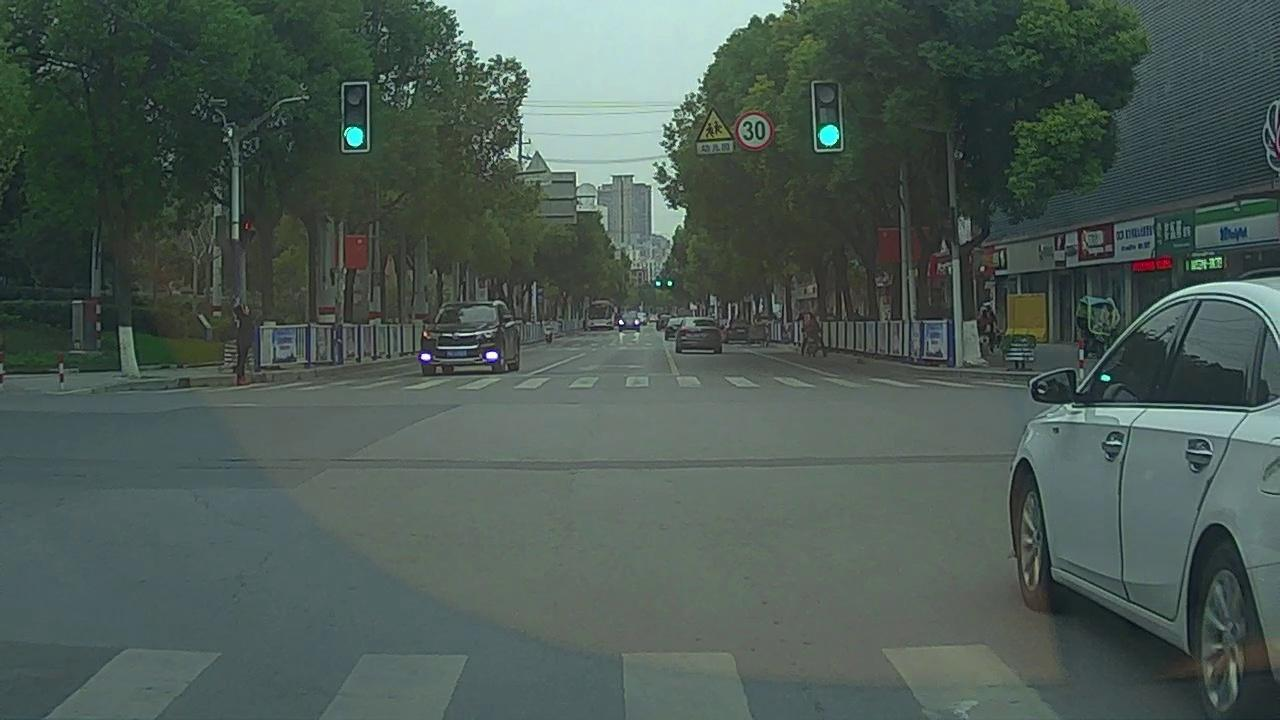traffic_light: (812, 84, 841, 151), (344, 84, 369, 153)
